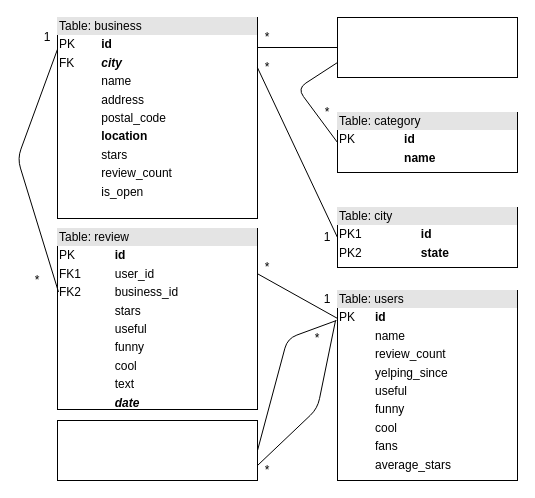
This 535x498 diagram has some shape labels left out. The centre of each missing label's shape, as x and y in pixels:
Linking Table: bus_2_cat FK1 business_id FK2 category_id: the point at 427,47
Linking Table: friends FK1 userId FK2 friendId: the point at 157,450
